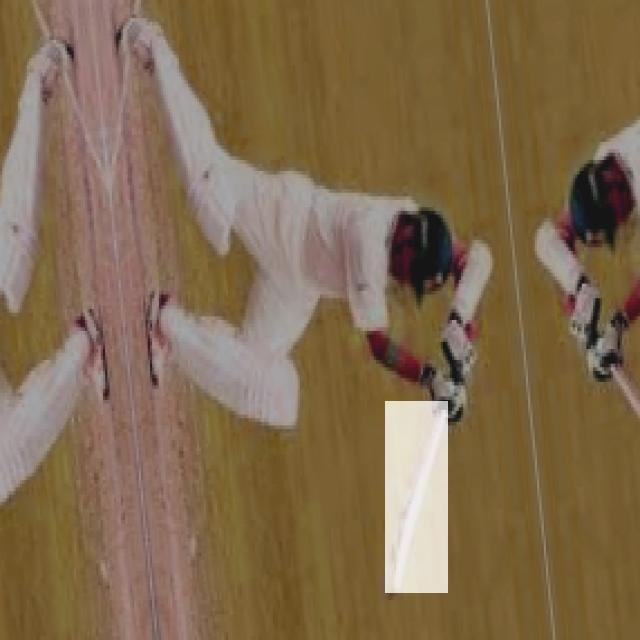bat: (384, 401, 451, 593)
